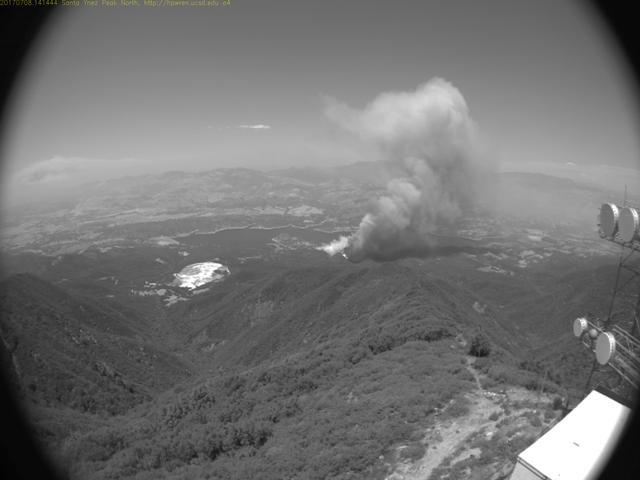smoke: (312, 70, 512, 266)
